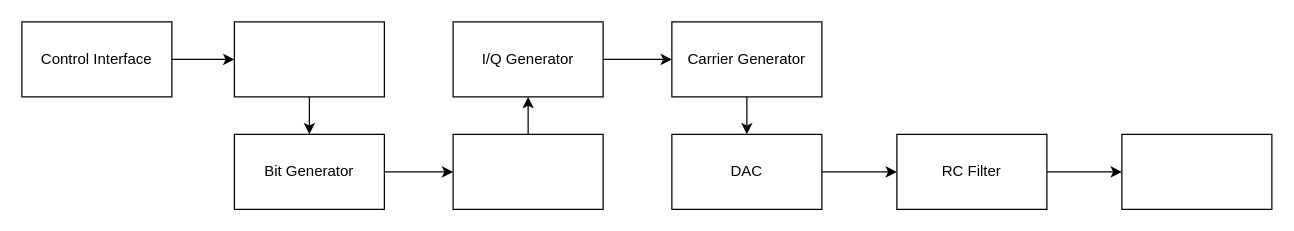
Some shapes in this 1294 by 231 pixel diagram are drawn without their labels. The centre of each missing label's shape, as x and y in pixels:
"Configuration Man ager" belongs at point (308, 59).
"Digital Modulator" belongs at point (527, 171).
"TX Connector" belongs at point (1196, 171).
